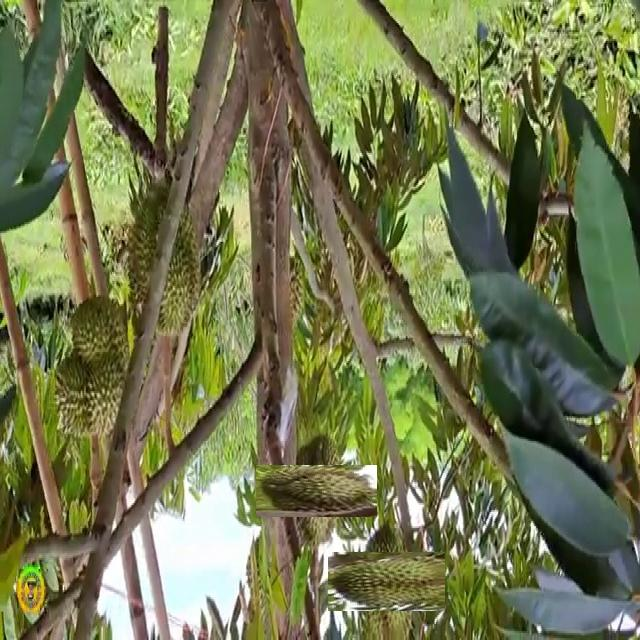durian: (125, 176, 205, 338), (52, 292, 132, 442), (342, 537, 431, 625), (272, 447, 360, 535)
